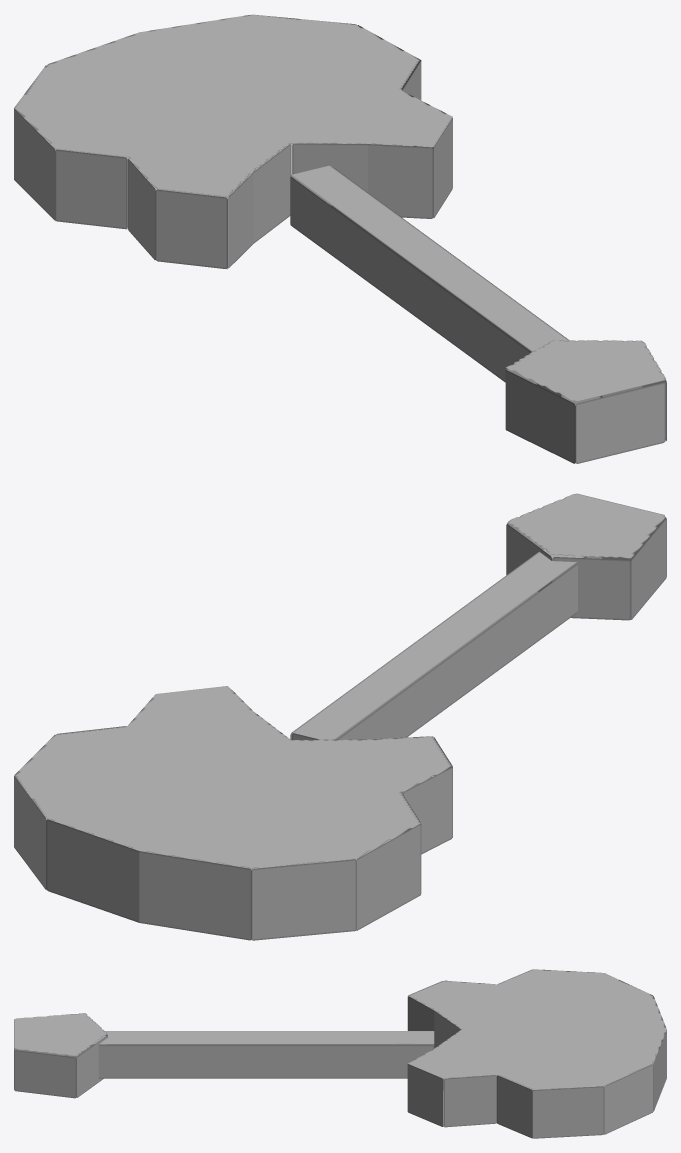
The model's file is pz_house_guitar_electric_red.obj.
3 renders of one model, top to bottom at view 1: azimuth 30°, elevation 25°; view 2: azimuth 150°, elevation 25°; view 3: azimuth 270°, elevation 25°, orthographic. The views are drawn at different scales.
Parts seen in each view (by area): view 1: pz_house_guitar_electric_red; view 2: pz_house_guitar_electric_red; view 3: pz_house_guitar_electric_red.
Boxes of the visible parts, <box> form: pz_house_guitar_electric_red: <box>14,14,666,463</box>; pz_house_guitar_electric_red: <box>14,493,666,940</box>; pz_house_guitar_electric_red: <box>14,969,666,1138</box>.
Bounding box in the file's own units: 0.32 × 0.065 × 0.73.
1 material, 1 textured.
